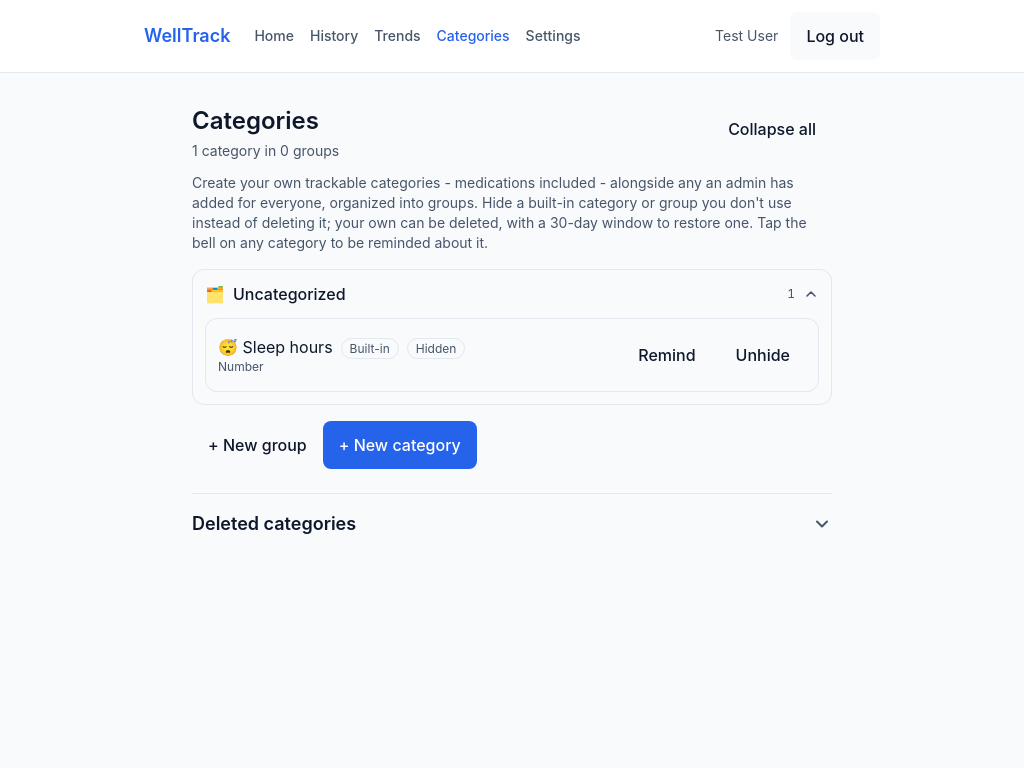
it: CategoriesPage › unhides an already-hidden system category
This screenshot has width=1024, height=768.
Check: the text "Hidden" is shown, box top-left (407, 338), bottom-right (465, 359)
Step 1. Click the button with aria-label "Unhide Sleep hours" → (763, 355), box top-left (720, 331), bottom-right (806, 379)
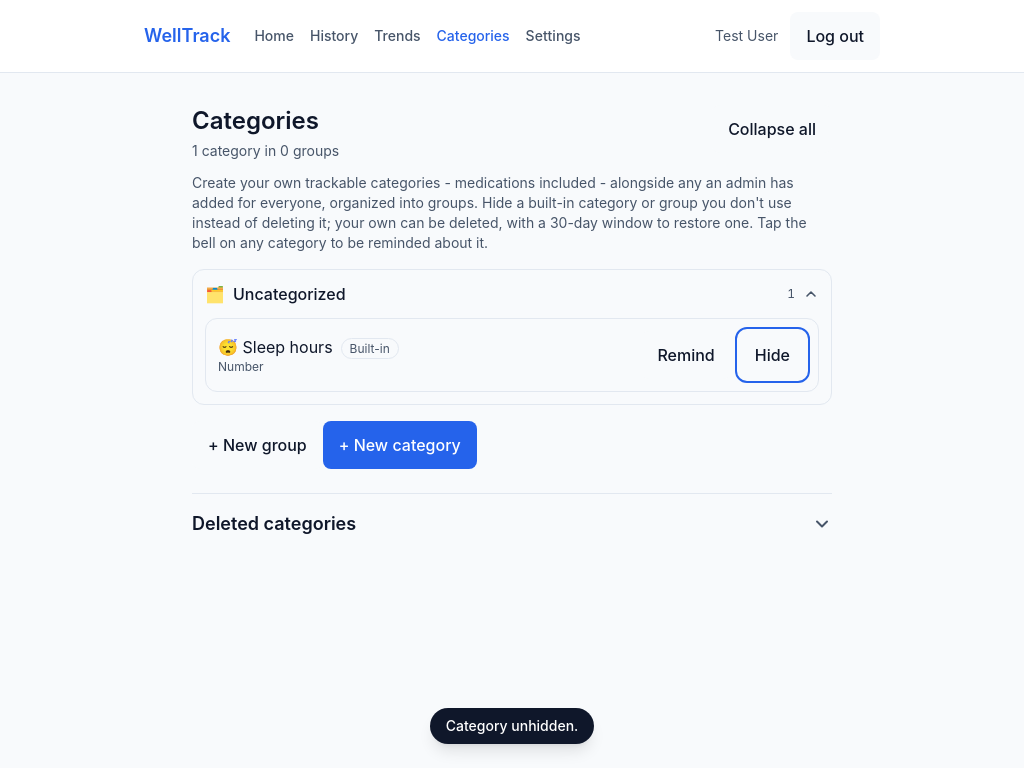
Check: the button with aria-label "Hide Sleep hours" is shown, box top-left (739, 331), bottom-right (806, 379)
Check: the text "Category unhidden." is shown, box top-left (430, 708), bottom-right (594, 744)
